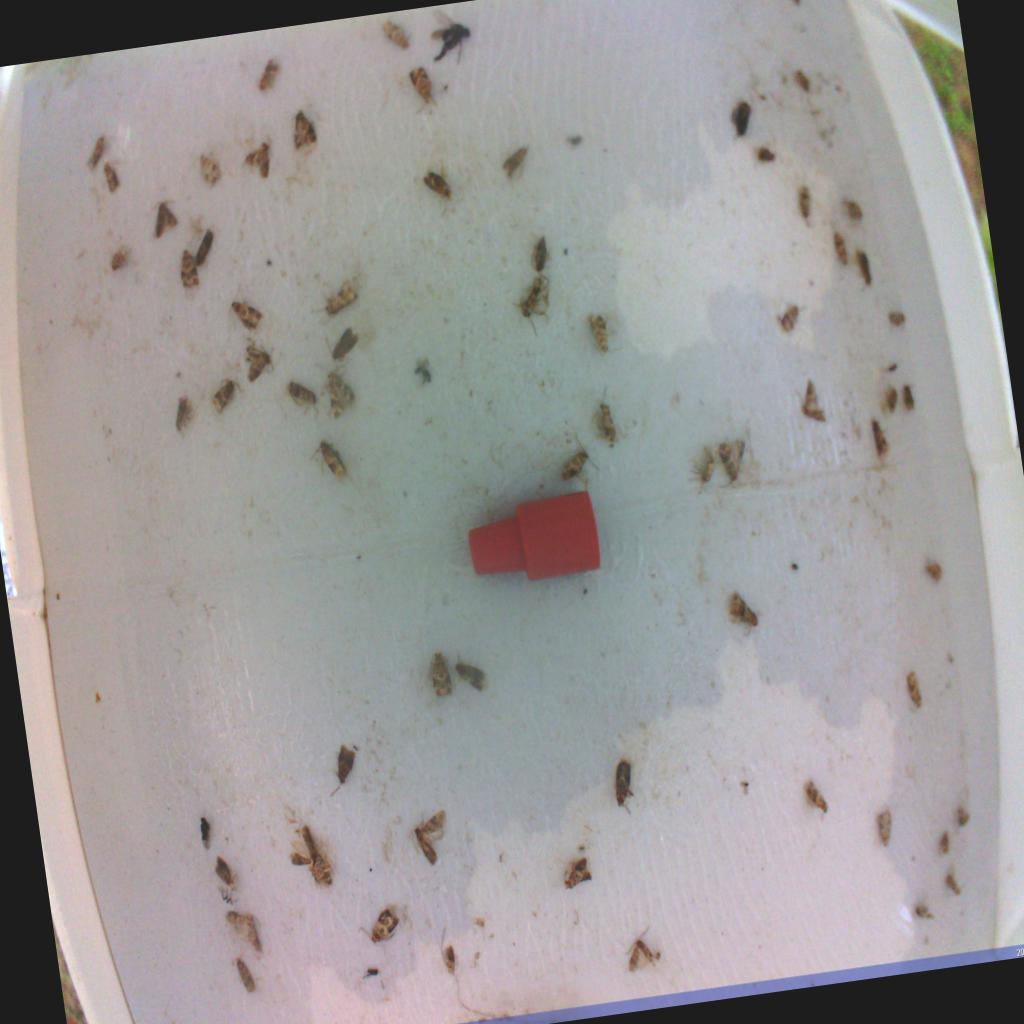grape_moth: (282, 821, 338, 895), (506, 274, 556, 338), (312, 359, 357, 426), (404, 808, 452, 866), (554, 433, 601, 488), (406, 61, 449, 118), (308, 279, 363, 323), (221, 906, 263, 963), (305, 438, 350, 489), (712, 437, 752, 492), (354, 905, 404, 949), (585, 389, 619, 453), (681, 445, 721, 499), (619, 924, 662, 974), (227, 284, 265, 338), (608, 755, 640, 817), (580, 307, 619, 357), (420, 167, 455, 222), (724, 586, 761, 636), (238, 136, 275, 185), (205, 373, 246, 417), (283, 371, 321, 418), (790, 377, 825, 428), (241, 341, 278, 385), (426, 646, 456, 700), (554, 855, 595, 893), (287, 109, 321, 154), (168, 392, 198, 436), (378, 17, 412, 55), (799, 775, 830, 816), (195, 148, 224, 191), (231, 953, 258, 996), (251, 59, 283, 95), (175, 246, 201, 290), (867, 415, 892, 460), (874, 804, 898, 850), (793, 179, 815, 228), (82, 133, 110, 171), (829, 226, 852, 272), (773, 305, 804, 339), (903, 667, 926, 712), (99, 158, 121, 197), (105, 247, 130, 275), (942, 867, 963, 898), (935, 828, 955, 860), (753, 140, 777, 166), (913, 901, 936, 926), (954, 804, 971, 828)
